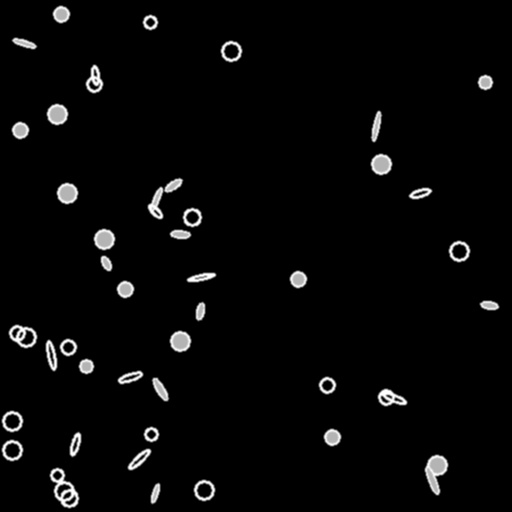pseudomonas: (127, 447, 151, 471), (151, 376, 169, 402), (424, 466, 440, 494), (382, 390, 406, 406), (117, 370, 143, 384), (149, 187, 163, 211), (45, 341, 57, 369), (12, 37, 36, 49), (187, 272, 215, 282), (371, 112, 381, 140), (69, 433, 81, 455), (409, 187, 431, 199), (147, 203, 163, 219), (164, 178, 182, 192), (99, 255, 113, 271), (150, 483, 160, 503), (195, 302, 205, 320), (480, 300, 498, 310), (91, 66, 99, 84), (171, 230, 189, 238)
synechocystis: (171, 332, 189, 350), (372, 155, 390, 173), (3, 412, 21, 430), (55, 482, 73, 500), (195, 481, 213, 499), (58, 184, 76, 202), (450, 242, 468, 260), (95, 230, 113, 248), (222, 42, 240, 60), (428, 456, 446, 474), (3, 441, 21, 459), (17, 328, 35, 346), (48, 105, 66, 123), (61, 490, 77, 506), (184, 209, 200, 225), (379, 390, 393, 404), (54, 7, 68, 21), (13, 123, 27, 137), (10, 326, 24, 340), (325, 430, 339, 444), (291, 272, 305, 286), (118, 282, 132, 296), (320, 378, 334, 392), (87, 77, 101, 91), (61, 340, 75, 354), (51, 469, 63, 481), (144, 16, 156, 28), (145, 428, 157, 440), (80, 360, 92, 372), (479, 76, 491, 88)
